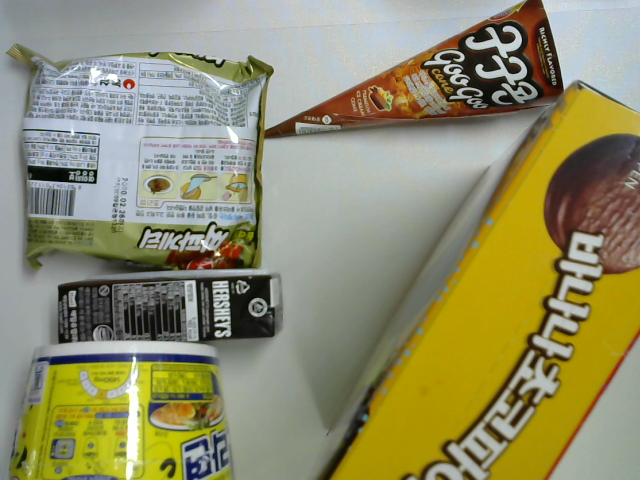Choco_Pie_Banana: (328, 82, 640, 480)
GooGoo_Cone_CVS: (261, 1, 565, 137)
Hush_Choco_Drink: (53, 265, 290, 349)
Jinlamyeon_Mild_Taste_Large_Cup: (9, 337, 238, 480)
Olive_Chapaghetti: (4, 41, 277, 270)
